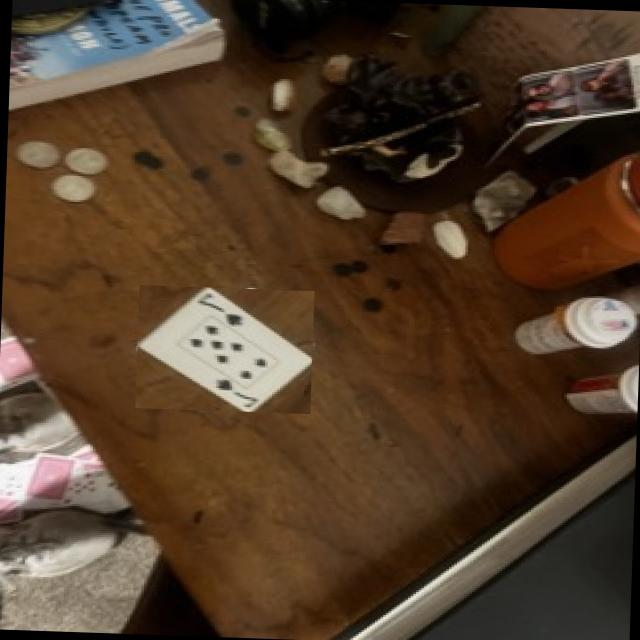7 of spades: (137, 287, 310, 411)
